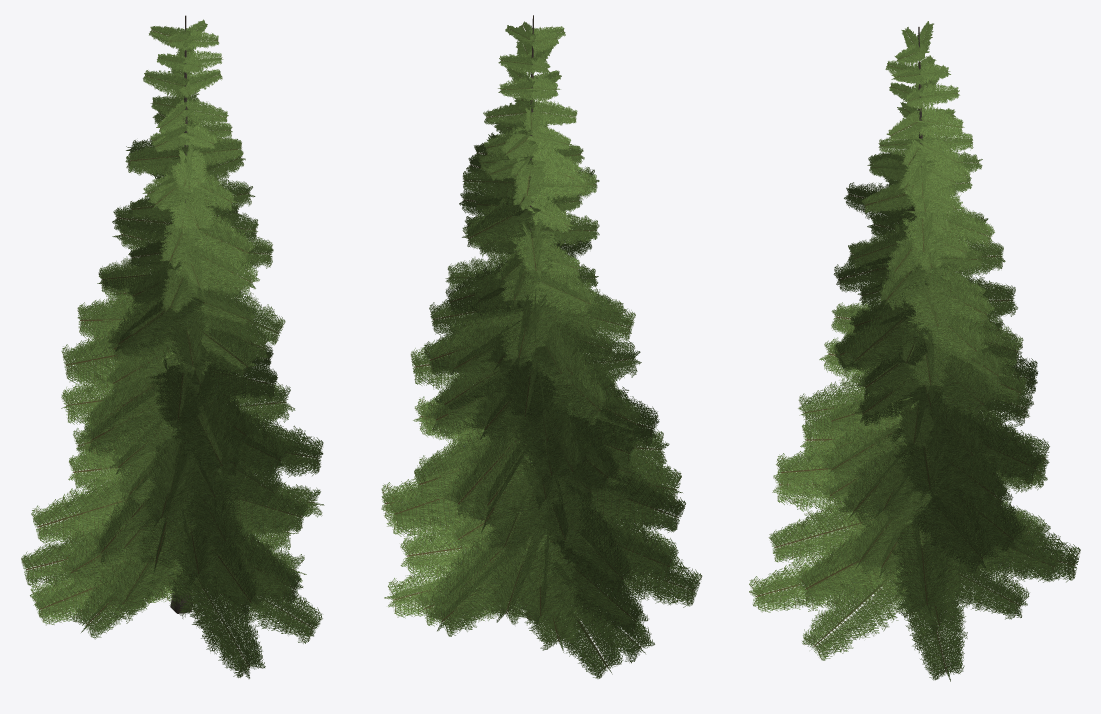
File: tree_spruce_v1_l0.glb
3 renders of one model, left to right at view 1: azimuth 30°, elevation 25°; view 2: azimuth 150°, elevation 25°; view 3: azimuth 270°, elevation 25°, orthographic. The views are drawn at different scales.
Visible parts, largest first — view 1: tree_spruce_v1_l0; view 2: tree_spruce_v1_l0; view 3: tree_spruce_v1_l0.
Part boxes in pixels (x1,y1,x2,y2): tree_spruce_v1_l0: (21,15,324,678); tree_spruce_v1_l0: (381,15,702,678); tree_spruce_v1_l0: (749,21,1080,681).
Bounding box in the file's own units: 6.54 × 13.57 × 6.87.
2 materials, 2 textured.
